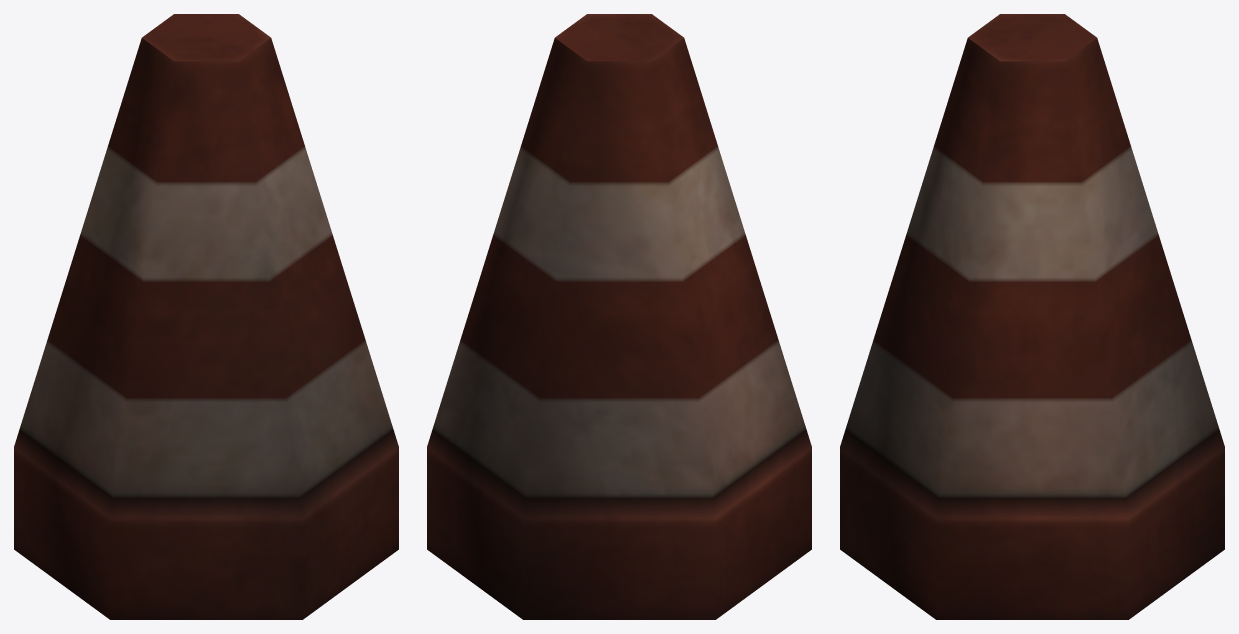
Rendered from Stage-gongchang-yuanzhang.FBX.
The picture shows the model from 3 angles, left to right: view 1: azimuth 30°, elevation 25°; view 2: azimuth 150°, elevation 25°; view 3: azimuth 270°, elevation 25°; orthographic projection.
Visible parts, largest first — view 1: Object181; view 2: Object181; view 3: Object181.
Part boxes in pixels (<box>): Object181: <box>14,14,398,619</box>; Object181: <box>427,14,811,619</box>; Object181: <box>840,14,1224,619</box>.
Size of the model in its own units: 0.9524 by 1.1 by 1.61.
